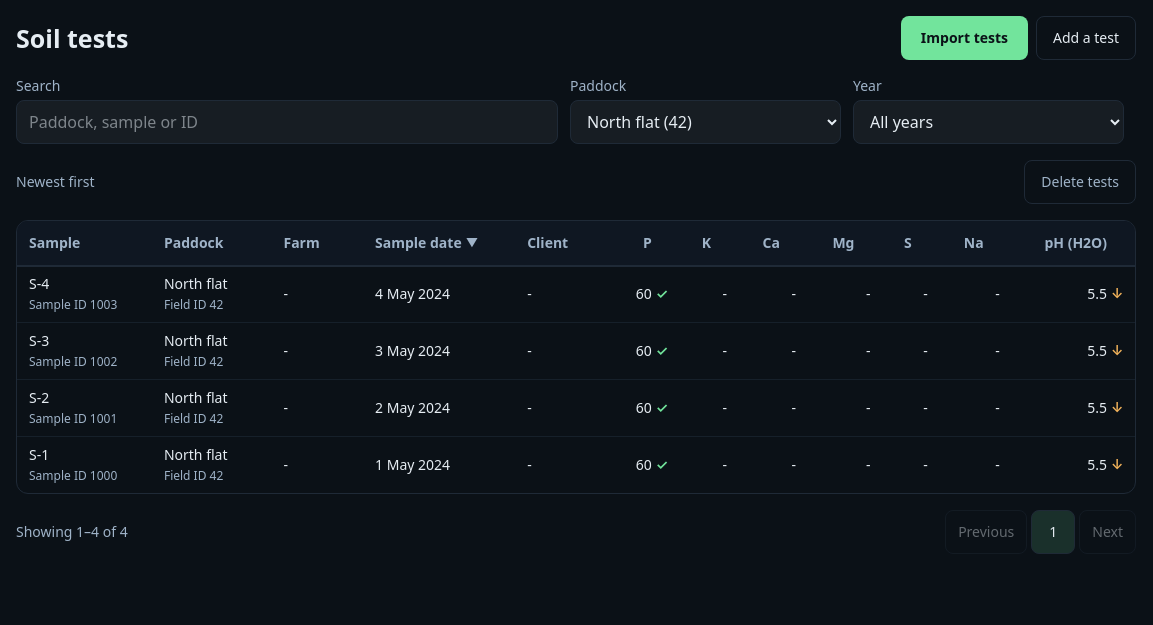
Test case: soil tests page on a phone › gives the card selection checkbox a 44px tap target
The image size is (1153, 625).
Click the button "Delete tests". click: [1080, 182]
box: [1024,160,1136,204]
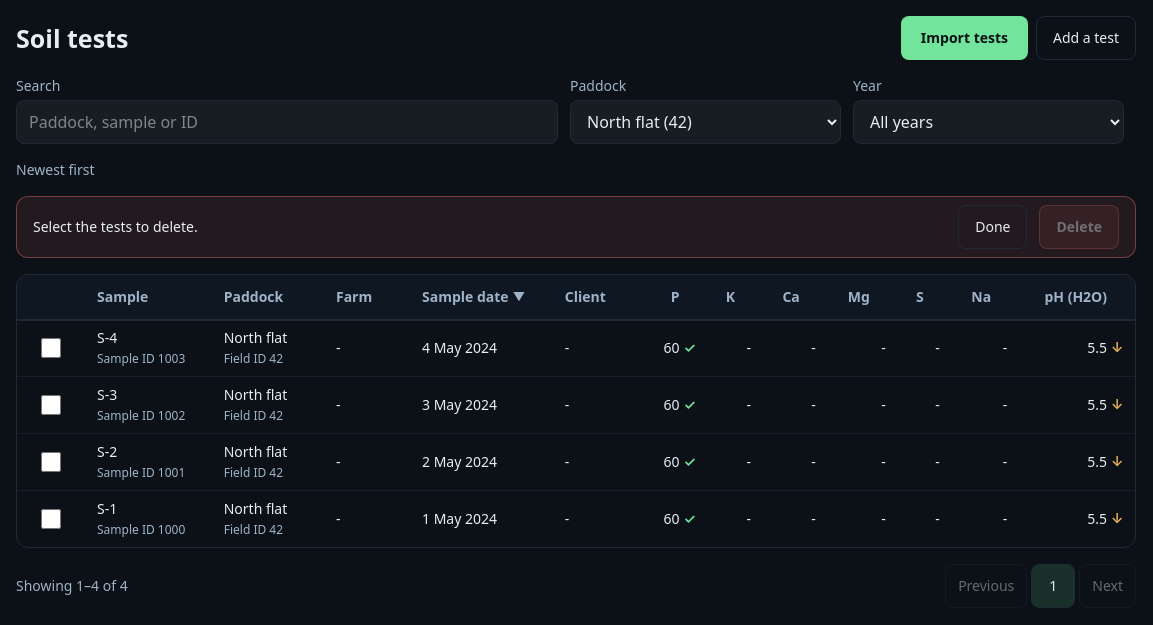
Result: the label next to "S-4" is shown at [41,338,61,358]
